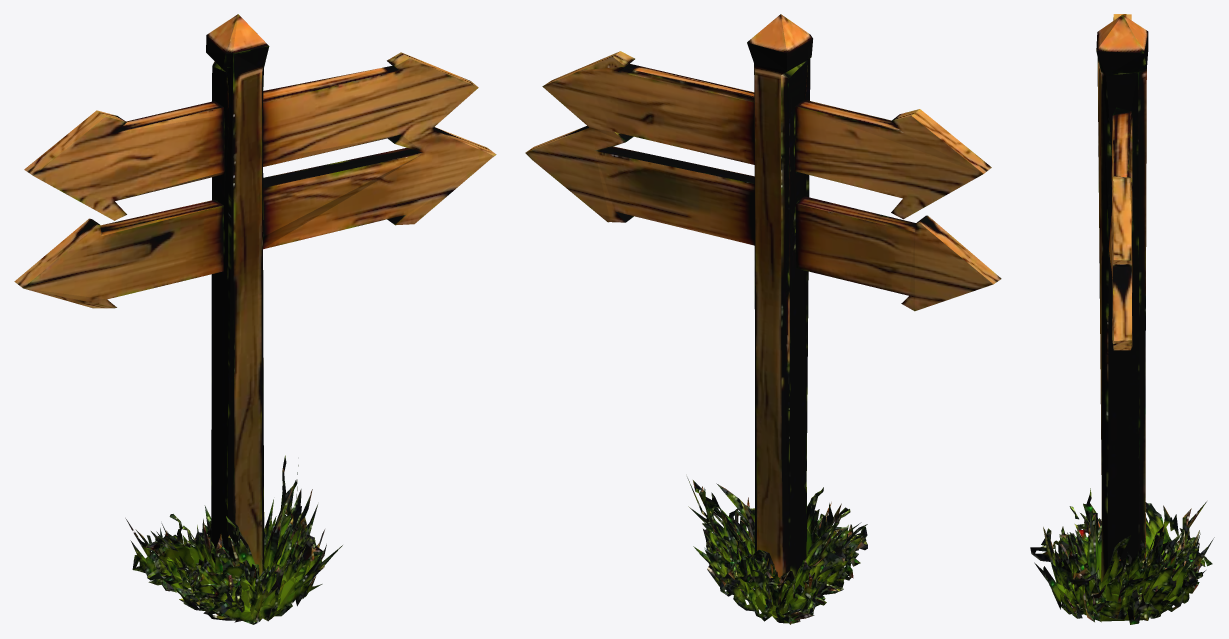
The model's file is village_signpost_01.glb.
The picture shows the model from 3 angles, left to right: view 1: azimuth 30°, elevation 25°; view 2: azimuth 150°, elevation 25°; view 3: azimuth 270°, elevation 25°; orthographic projection.
Visible parts, largest first — view 1: geometry_0; view 2: geometry_0; view 3: geometry_0.
Boxes of the visible parts, x1,y1,x2,y2 form: geometry_0: [14, 14, 496, 624]; geometry_0: [525, 14, 1001, 624]; geometry_0: [1030, 14, 1214, 624].
Size of the model in its own units: 0.8353 by 0.9999 by 0.2794.
Materials: 1 (1 with a texture image).
